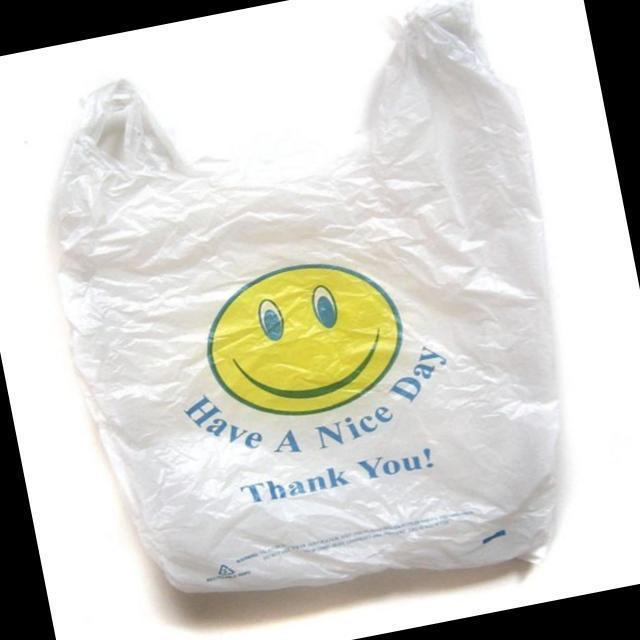Plastic_Bag: (19, 0, 606, 640)
